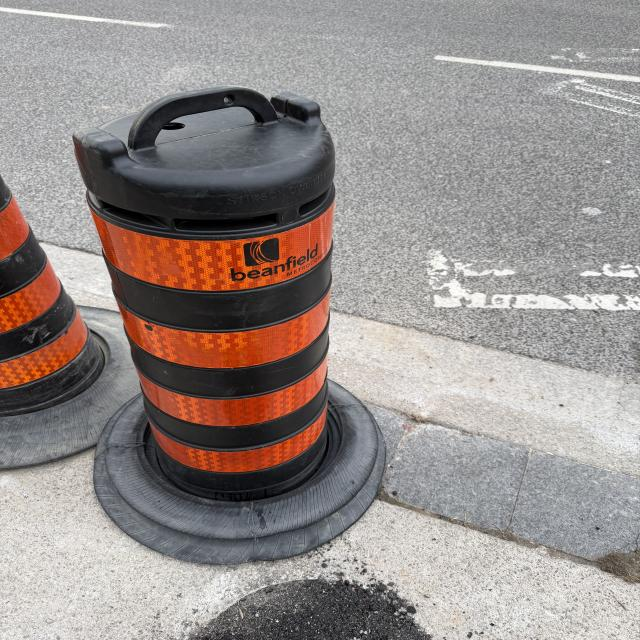Teraffic Barrel: (74, 87, 384, 563), (0, 178, 137, 470)
